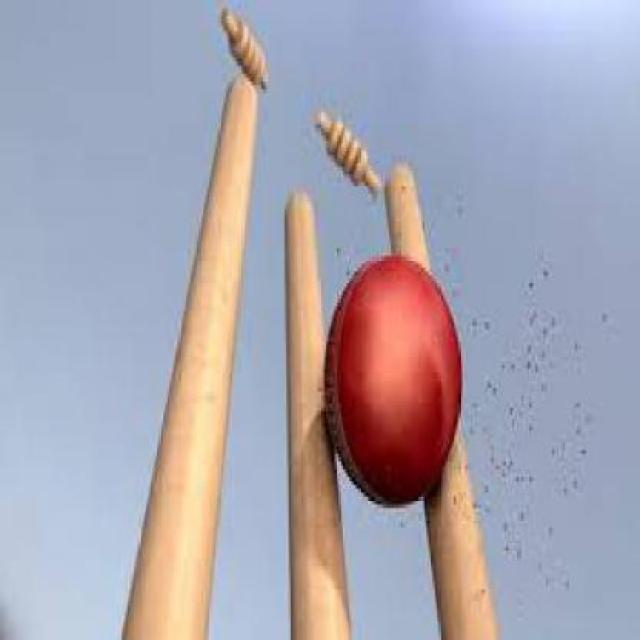ball: (286, 230, 504, 518)
